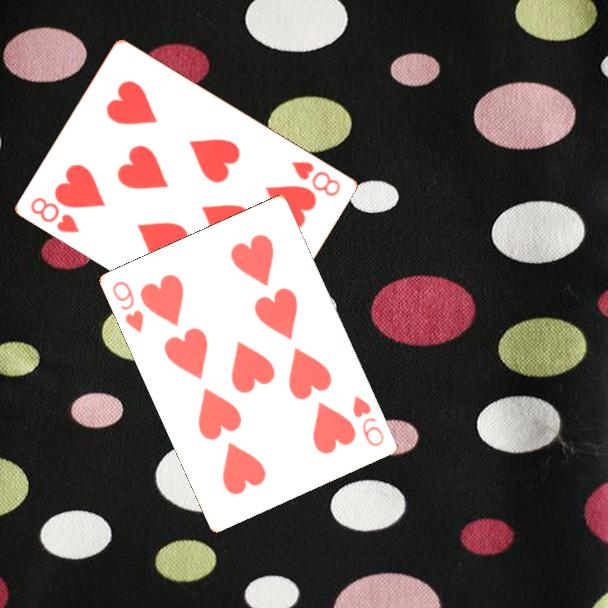h08: (27, 193, 83, 236), (288, 158, 344, 200)
h09: (109, 277, 147, 336), (350, 392, 387, 450)
